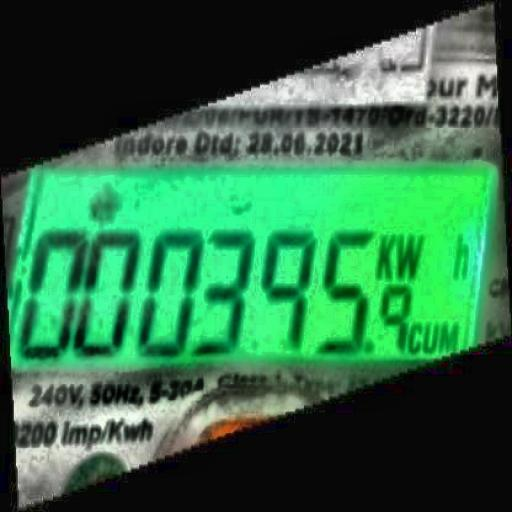DISPLAY_REGION: (1, 157, 511, 375)
SERIAL_REGION: (15, 226, 433, 357)
